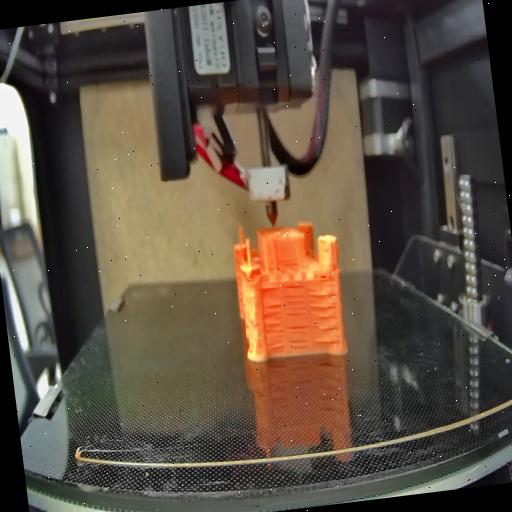cracks: (310, 290, 342, 346), (262, 300, 289, 352), (282, 280, 306, 318), (288, 324, 312, 352), (280, 255, 300, 269), (259, 282, 281, 294), (316, 272, 332, 282)
